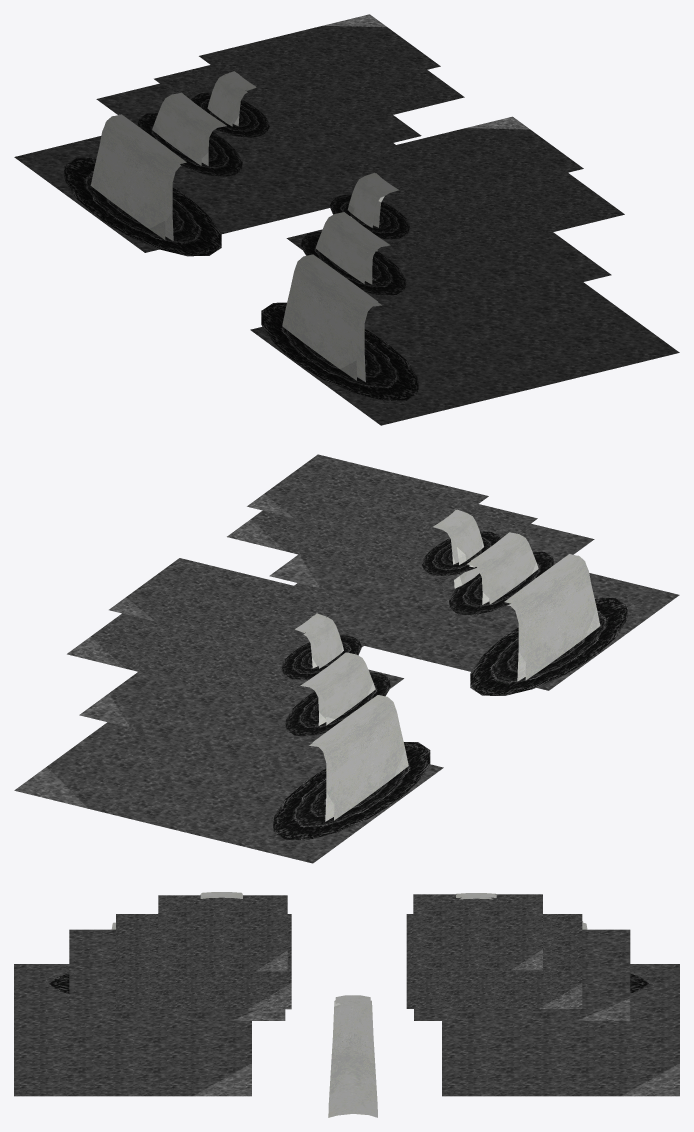
Rendered from stg110_MotWater_08.obj.
3 renders of one model, top to bottom at view 1: azimuth 30°, elevation 25°; view 2: azimuth 150°, elevation 25°; view 3: azimuth 270°, elevation 25°, orthographic. The views are drawn at different scales.
Visible parts, largest first — view 1: polygon2, polygon4, polygon3, polygon5; view 2: polygon2, polygon4, polygon3, polygon5; view 3: polygon2, polygon1, polygon3, polygon4.
Boxes of the visible parts, left/top/right/bottom form: polygon2: left=14, top=14, right=679, bottom=425; polygon4: left=91, top=71, right=396, bottom=380; polygon3: left=64, top=92, right=418, bottom=400; polygon5: left=101, top=73, right=399, bottom=382; polygon2: left=14, top=454, right=679, bottom=863; polygon4: left=295, top=509, right=600, bottom=820; polygon3: left=273, top=531, right=627, bottom=840; polygon5: left=296, top=510, right=590, bottom=821; polygon2: left=14, top=894, right=679, bottom=1096; polygon1: left=328, top=1000, right=377, bottom=1117; polygon3: left=49, top=973, right=648, bottom=993; polygon4: left=201, top=892, right=583, bottom=925.
Bounding box in the file's own units: 630 × 469 × 1332.
